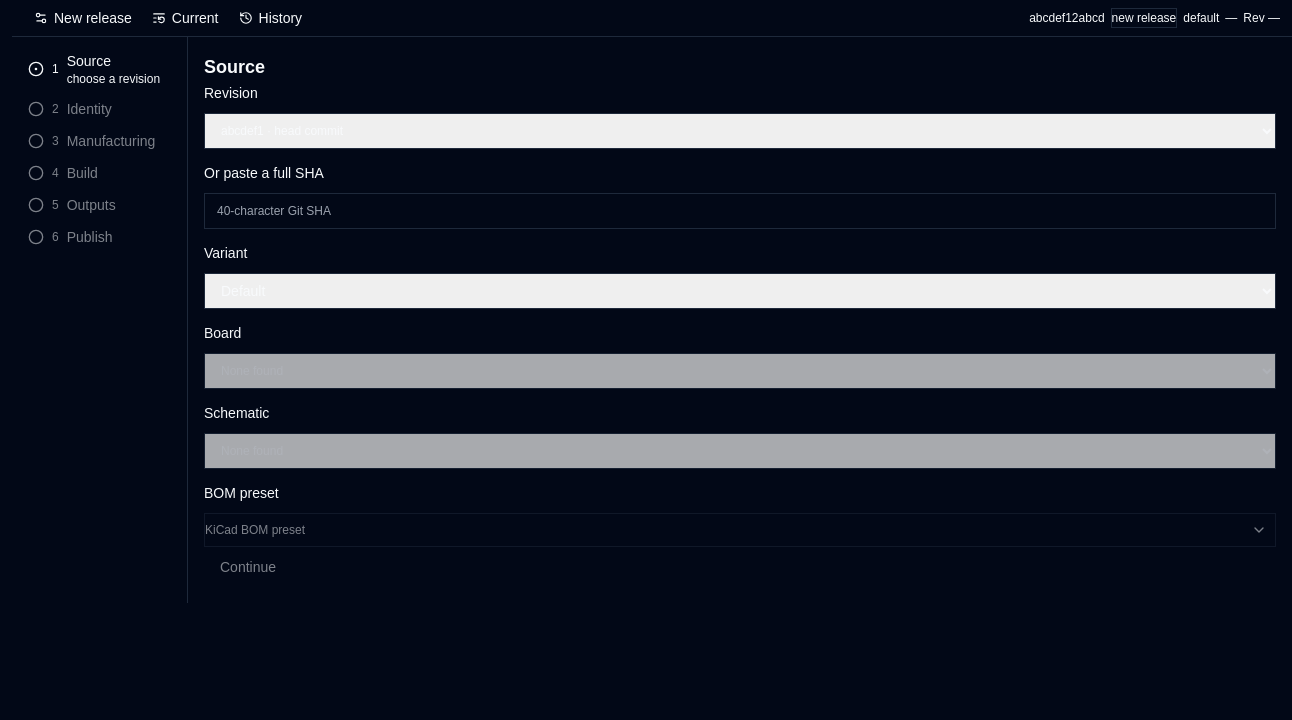
Scenario: ReleaseStudioPanel › replays Manufacturing from the nested configuration fields snapshot
The width and height of the screenshot is (1292, 720).
Click the button "History".
click(270, 18)  # box [228, 4, 312, 32]
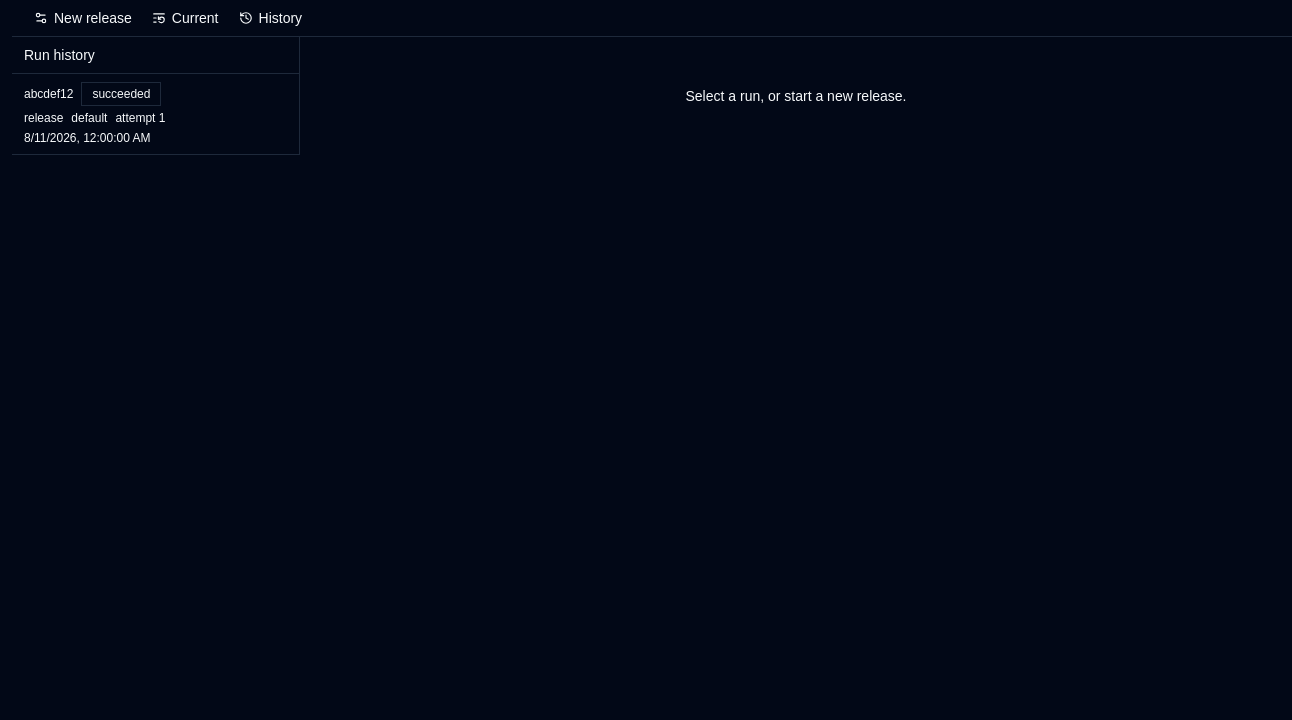
Click the button "abcdef12".
click(156, 114)  # box [12, 74, 299, 155]
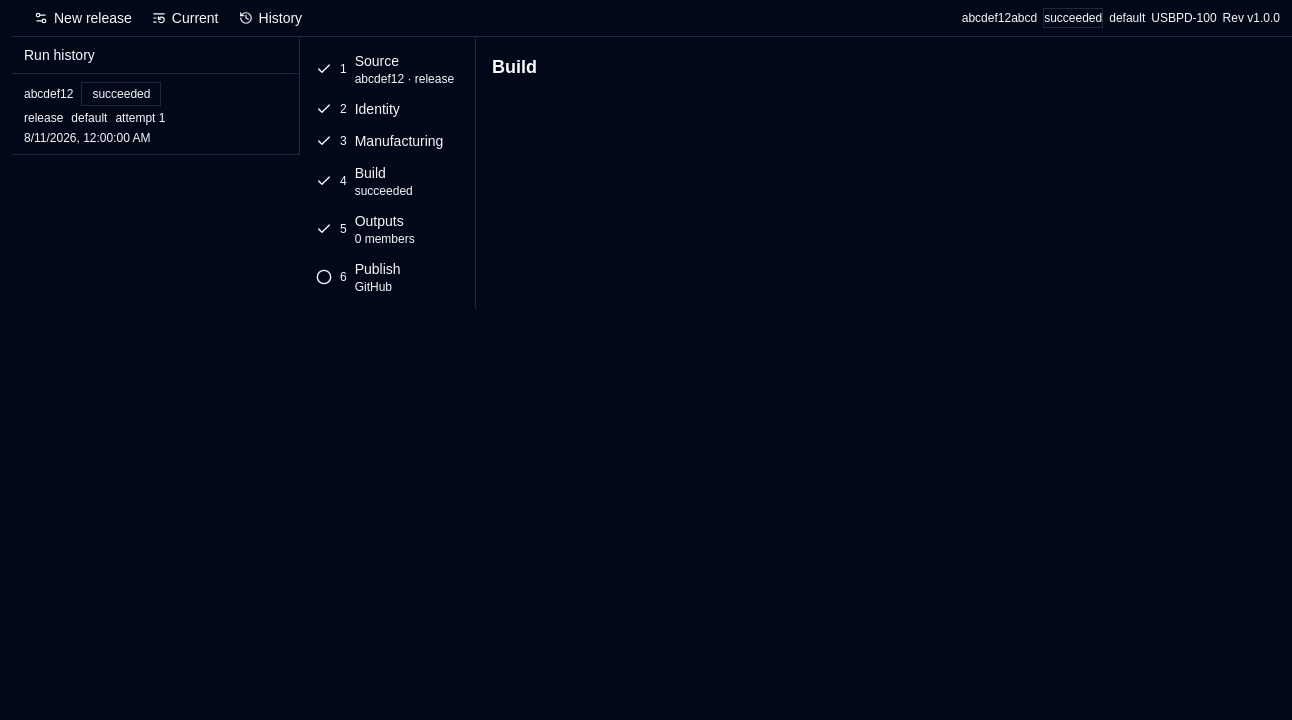
Click the button "3 Manufacturing".
click(388, 141)  # box [308, 125, 467, 157]
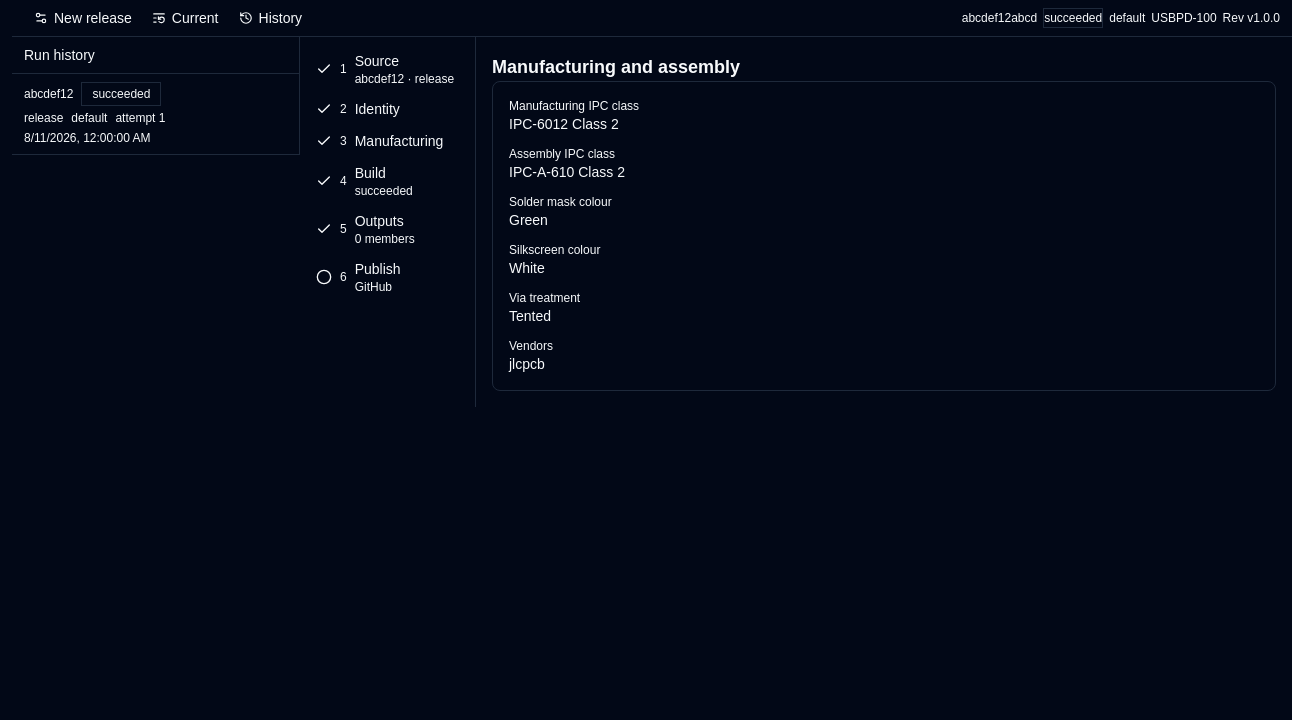
Check: the heading "Manufacturing and assembly" is shown, box [492, 57, 740, 77]
Check: the text "IPC-6012 Class 2" is shown, box [509, 116, 619, 132]
Check: the text "IPC-A-610 Class 2" is shown, box [509, 164, 625, 180]
